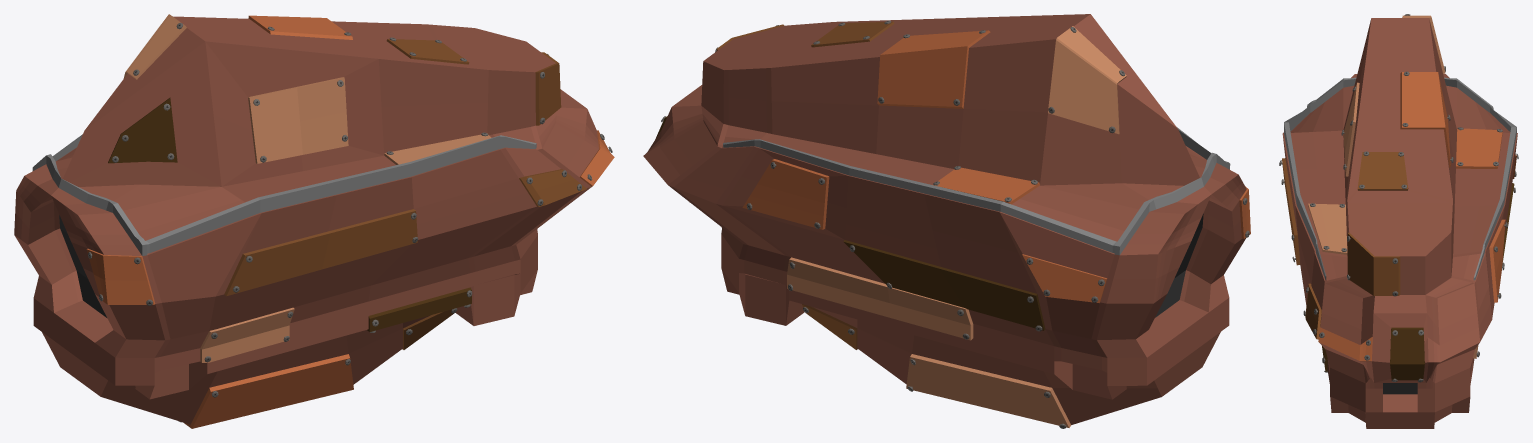
File: Lichaam Kameleon.fbx
3 views of the same model, side by side, from view 1: azimuth 30°, elevation 25°; view 2: azimuth 150°, elevation 25°; view 3: azimuth 270°, elevation 25° (orthographic). The views are drawn at different scales.
Parts seen in each view (by area): view 1: Lichaam.001; view 2: Lichaam.001; view 3: Lichaam.001.
Boxes of the visible parts, x1,y1,x2,y2 form: Lichaam.001: (14,14,614,428); Lichaam.001: (643,14,1250,428); Lichaam.001: (1279,14,1518,428).
Size of the model in its own units: 7771 by 5352 by 3509.
